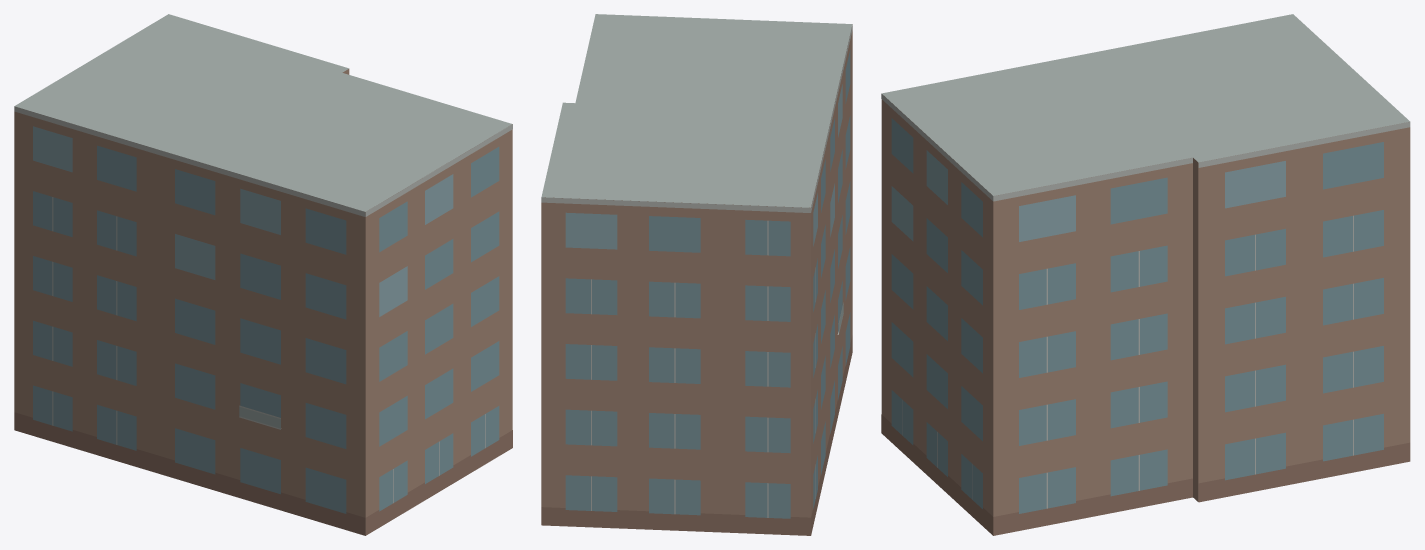
File: survey-upis-32611550.glb
The picture shows the model from 3 angles, left to right: view 1: azimuth 30°, elevation 25°; view 2: azimuth 150°, elevation 25°; view 3: azimuth 270°, elevation 25°; orthographic projection. The views are drawn at different scales.
Visible parts, largest first — view 1: survey-upis-32611550.tmp; view 2: survey-upis-32611550.tmp; view 3: survey-upis-32611550.tmp.
Boxes of the visible parts, x1,y1,x2,y2 form: survey-upis-32611550.tmp: (14, 14, 512, 535); survey-upis-32611550.tmp: (541, 14, 852, 535); survey-upis-32611550.tmp: (881, 14, 1410, 535).
Bounding box in the file's own units: 17.3 × 15.05 × 21.23.
